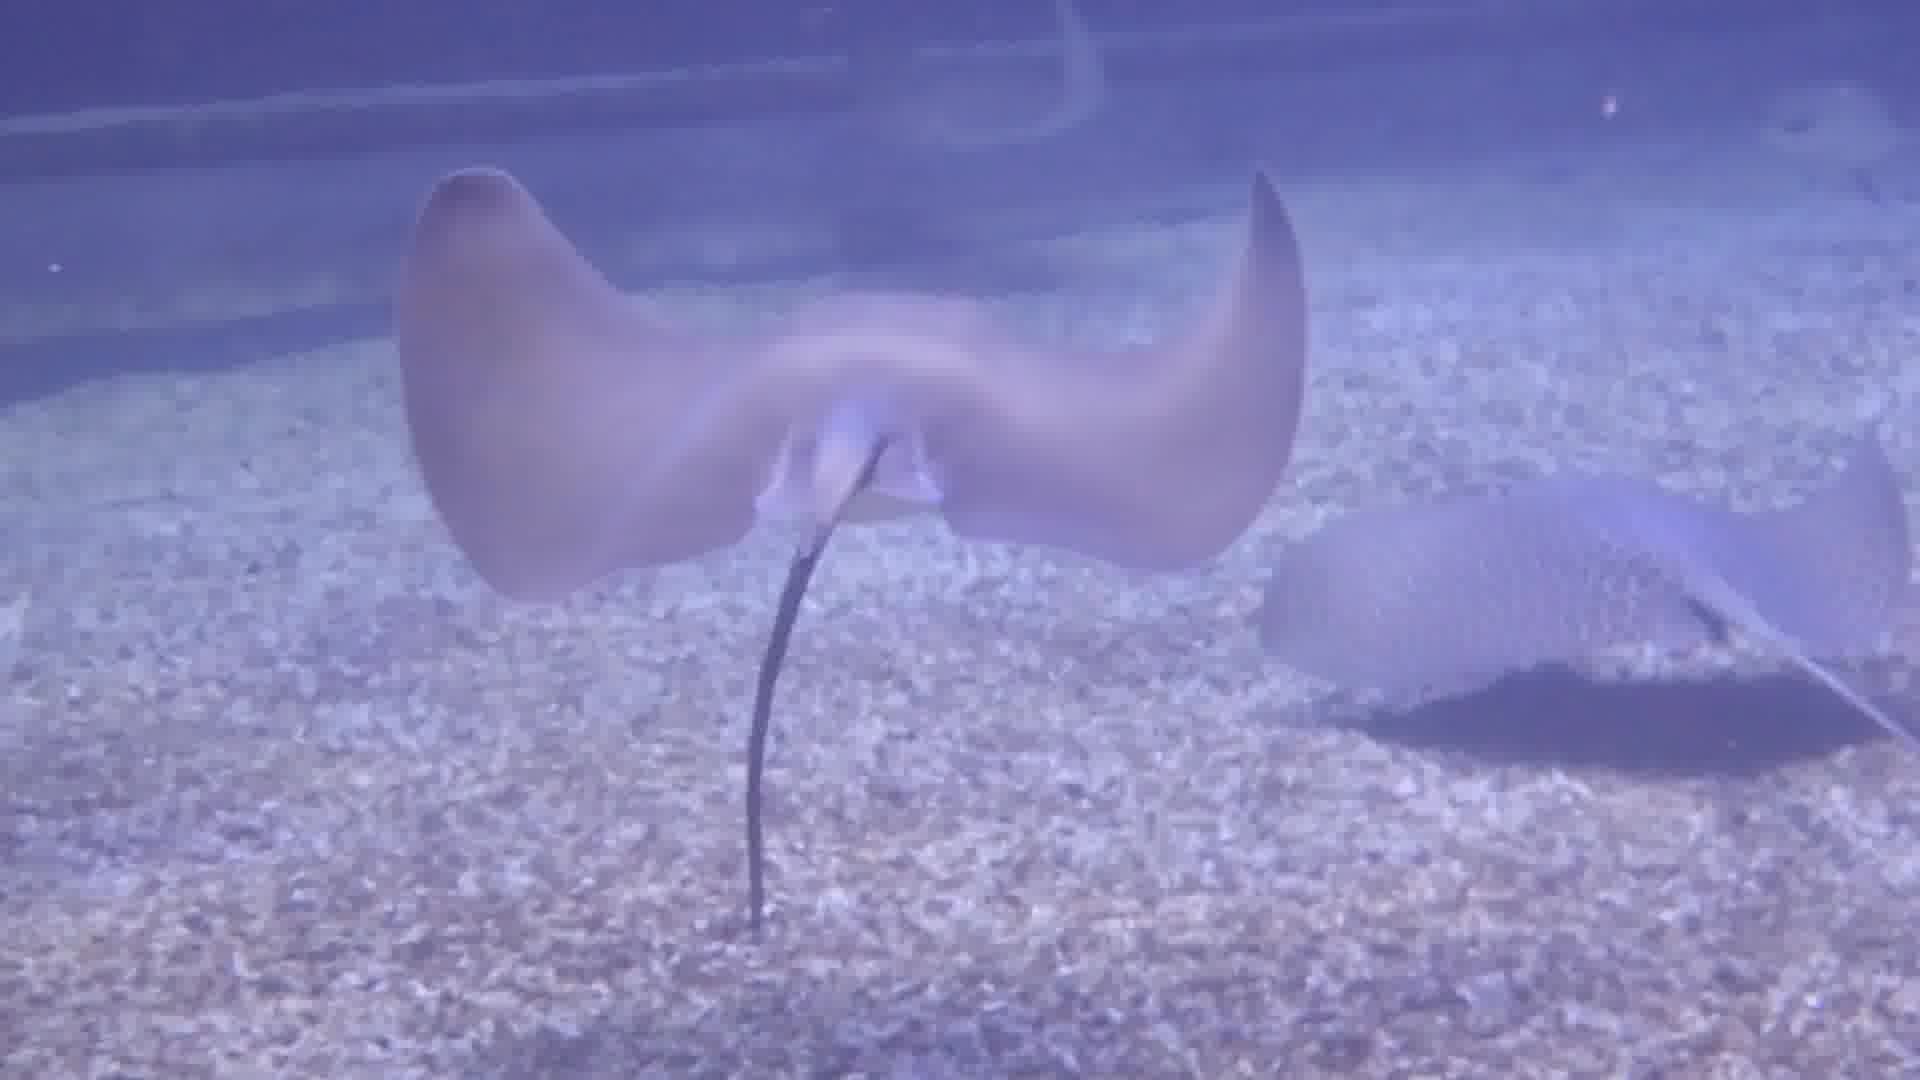Dasyatis akajei: (328, 140, 1313, 975)
